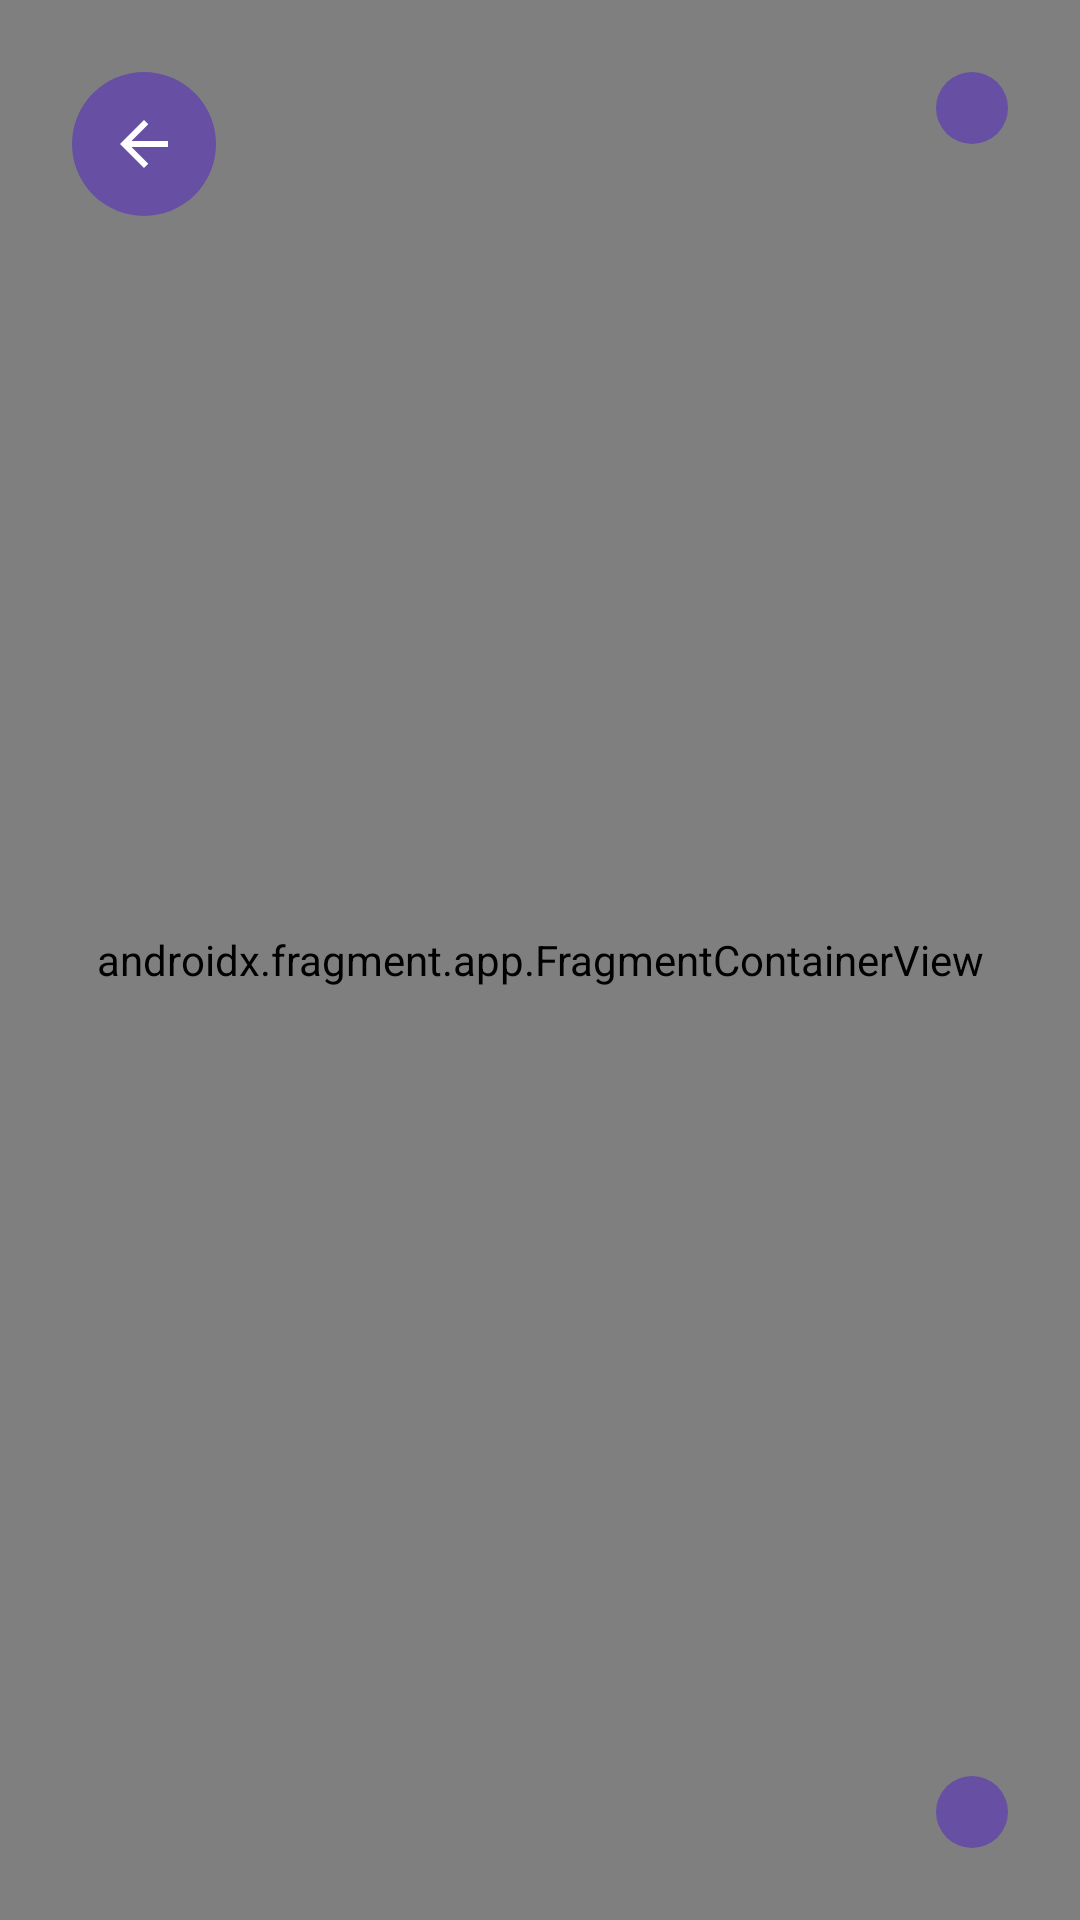

Named icons in this screenshot (1080px x 1920px) and their centers, [x,y]:
arrow back: [144,144]
